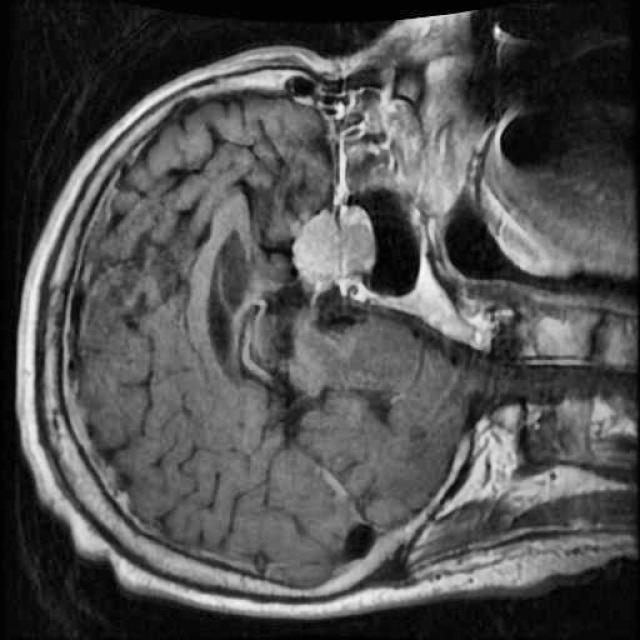Tumor: (290, 195, 380, 300)
